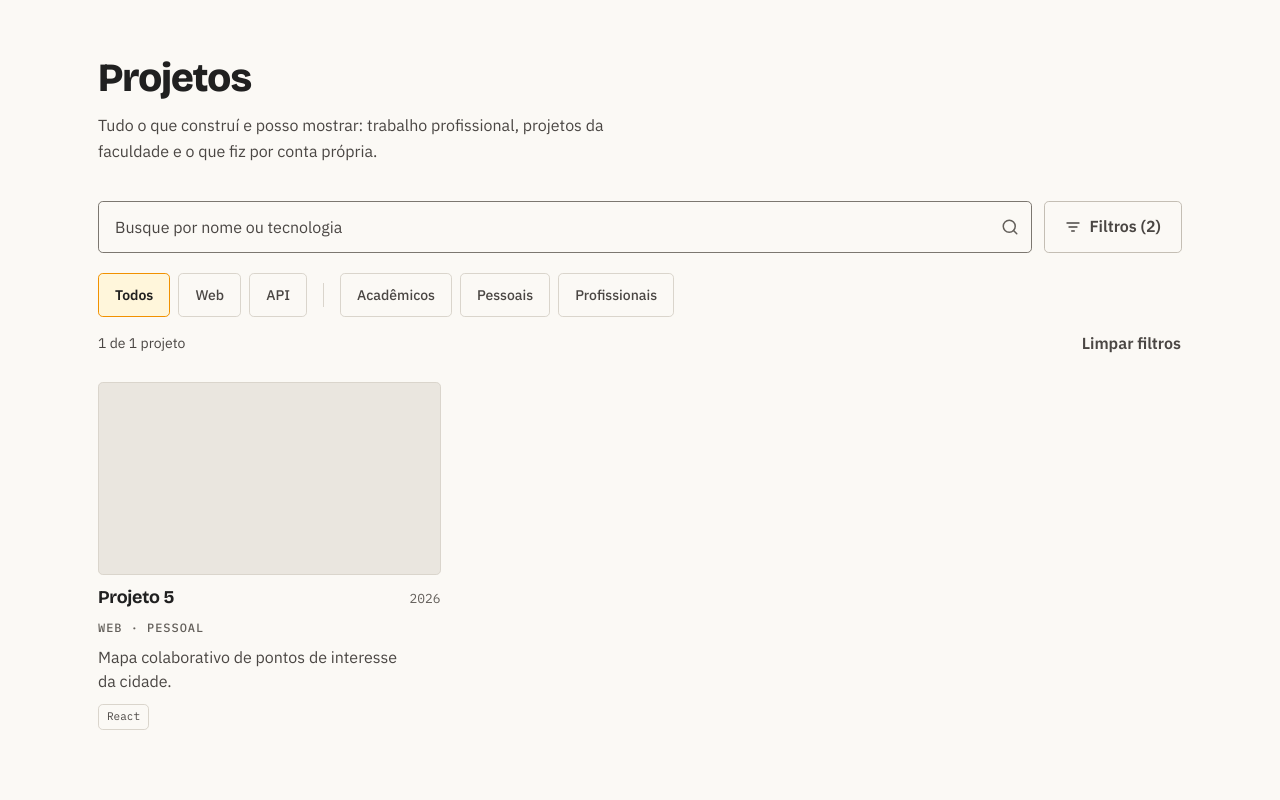
Test case: ProjectsPage, filtros por tecnologia e ano › abre o modal com as tecnologias e os anos dos dados, iguais com e sem filtros aplicados
Expected: the message reads "1 de 1 projeto", [98,332,185,355]
Click the button "Filtros (2)" at (1113, 227), box [1044,201,1182,253]
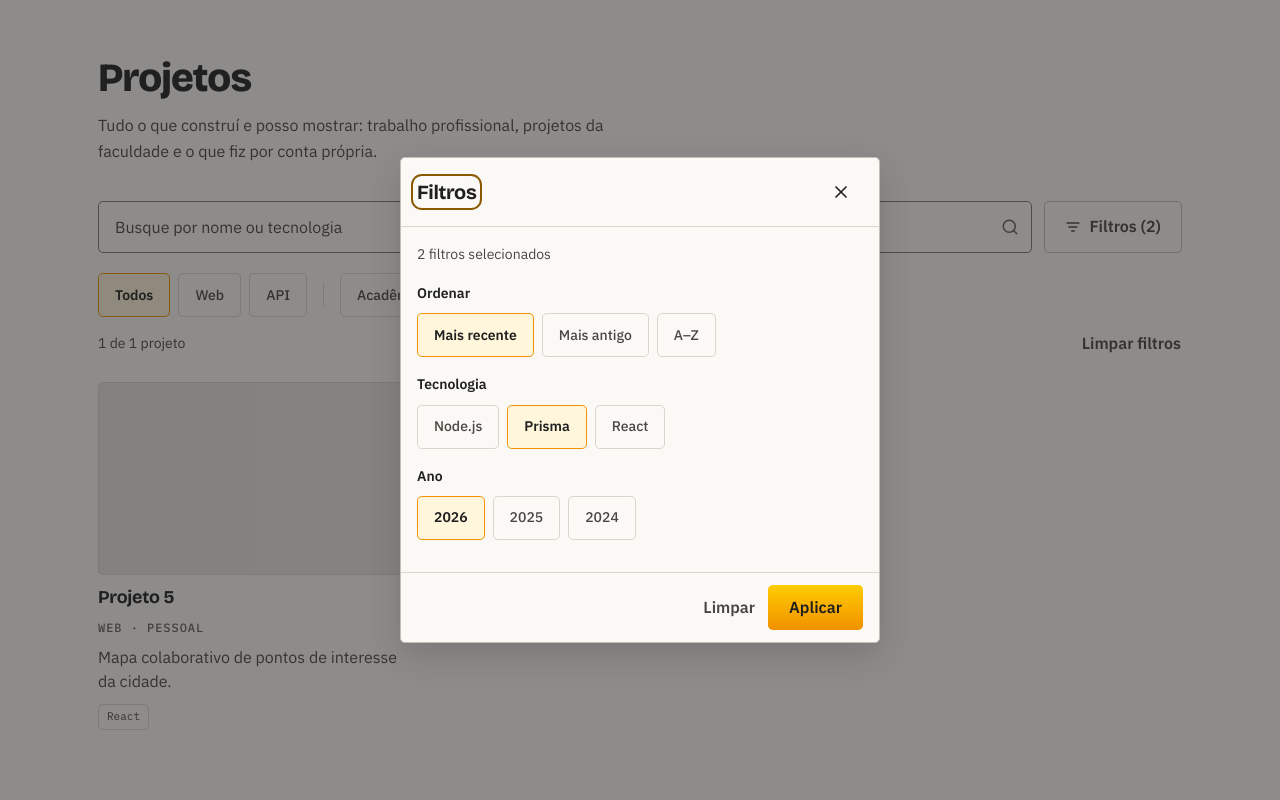
Expected: the button "Filtros (2)" is expanded, [1044,201,1182,253]
Expected: the checkbox labelled "Prisma" is checked, [507,404,587,448]
Expected: the checkbox labelled "2026" is checked, [417,496,485,540]
